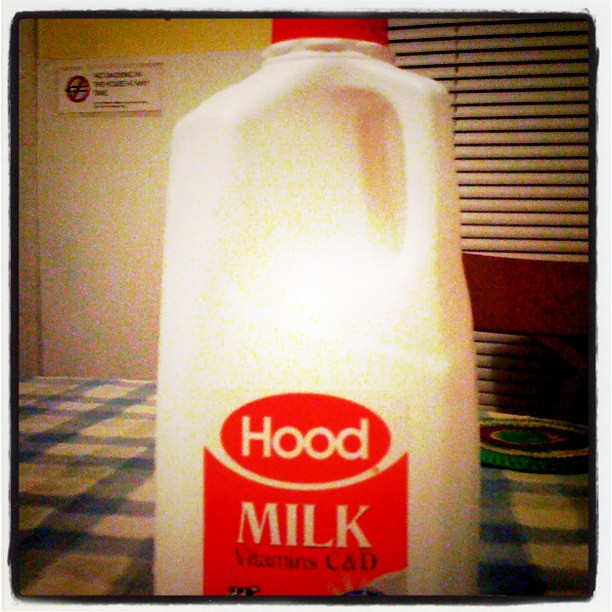milk: (170, 23, 487, 612)
